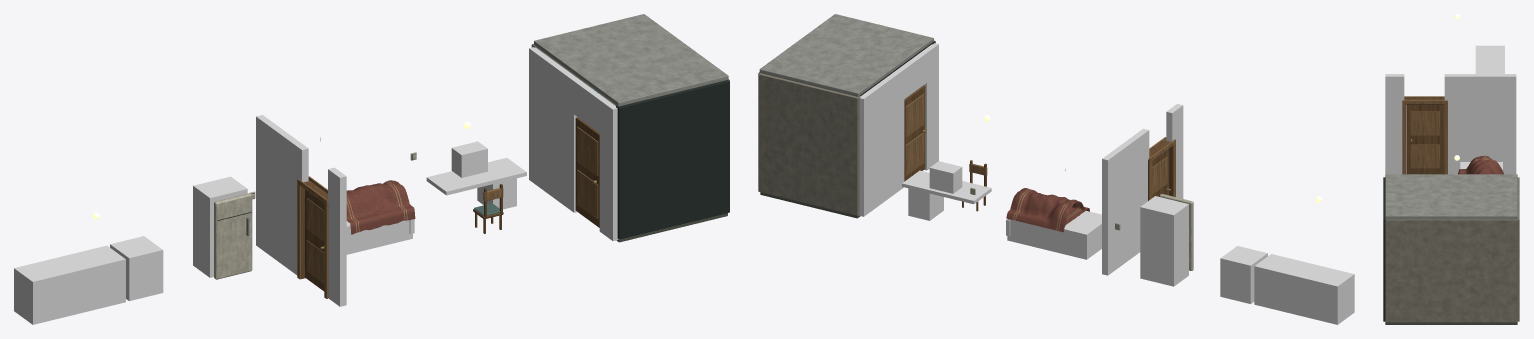
Rendered from interaction.glb.
3 views of the same model, side by side, from view 1: azimuth 30°, elevation 25°; view 2: azimuth 150°, elevation 25°; view 3: azimuth 270°, elevation 25° (orthographic). The views are drawn at different scales.
Visible parts, largest first — view 1: landing-front-screen, landing-ceiling, depth-sink-cabinet, depth-entry-rear-wall, depth-middle-wall, fridge-leaf, sleep-blanket, depth-entry-front-wall, depth-middle-front-wall, depth-fridge, depth-stove, depth-desk-top (+10 smaller); view 2: landing-rear-wall, landing-ceiling, depth-entry-rear-wall, depth-sink-cabinet, depth-middle-wall, depth-fridge, depth-bed-base, sleep-blanket, depth-stove, depth-entry-front-wall, depth-desk-top, depth-middle-front-wall (+8 smaller); view 3: landing-far-wall, depth-middle-wall, landing-ceiling, depth-middle-front-wall, passage-leaf, depth-sink-cabinet, passage-panel.002, passage-panel.003, sleep-blanket, landing-front-screen, landing-rear-wall, landing-floor (+5 smaller).
Boxes of the visible parts, x1=… form: landing-front-screen: x1=616, y1=80, x2=729, y2=239; landing-ceiling: x1=534, y1=14, x2=728, y2=106; depth-sink-cabinet: x1=14, y1=245, x2=125, y2=324; depth-entry-rear-wall: x1=529, y1=47, x2=579, y2=212; depth-middle-wall: x1=256, y1=115, x2=308, y2=278; fridge-leaf: x1=214, y1=193, x2=252, y2=279; sleep-blanket: x1=346, y1=180, x2=415, y2=234; depth-entry-front-wall: x1=599, y1=98, x2=618, y2=240; depth-middle-front-wall: x1=328, y1=167, x2=346, y2=306; depth-fridge: x1=193, y1=176, x2=247, y2=277; depth-stove: x1=110, y1=236, x2=163, y2=301; depth-desk-top: x1=426, y1=157, x2=526, y2=195; landing-rear-wall: x1=758, y1=73, x2=860, y2=215; landing-ceiling: x1=759, y1=14, x2=933, y2=96; depth-entry-rear-wall: x1=858, y1=68, x2=904, y2=216; depth-sink-cabinet: x1=1254, y1=254, x2=1354, y2=324; depth-middle-wall: x1=1102, y1=128, x2=1149, y2=275; depth-fridge: x1=1140, y1=196, x2=1188, y2=286; depth-bed-base: x1=1007, y1=210, x2=1101, y2=259; sleep-blanket: x1=1006, y1=188, x2=1088, y2=232; depth-stove: x1=1220, y1=246, x2=1267, y2=303; depth-entry-front-wall: x1=922, y1=43, x2=938, y2=170; depth-desk-top: x1=902, y1=170, x2=991, y2=204; depth-middle-front-wall: x1=1166, y1=104, x2=1183, y2=198; landing-far-wall: x1=1385, y1=219, x2=1517, y2=322; depth-middle-wall: x1=1444, y1=74, x2=1516, y2=174; landing-ceiling: x1=1385, y1=174, x2=1517, y2=219; depth-middle-front-wall: x1=1385, y1=74, x2=1404, y2=174; passage-leaf: x1=1406, y1=104, x2=1443, y2=174; depth-sink-cabinet: x1=1475, y1=45, x2=1504, y2=73; passage-panel.002: x1=1410, y1=144, x2=1439, y2=168; passage-panel.003: x1=1410, y1=111, x2=1439, y2=135; sleep-blanket: x1=1458, y1=156, x2=1503, y2=174; landing-front-screen: x1=1383, y1=177, x2=1385, y2=321; landing-rear-wall: x1=1517, y1=177, x2=1519, y2=321; landing-floor: x1=1385, y1=322, x2=1517, y2=324.
Size of the model in its own units: 15.26 by 3.2 by 3.62.
Materials: 113 (113 with a texture image).
